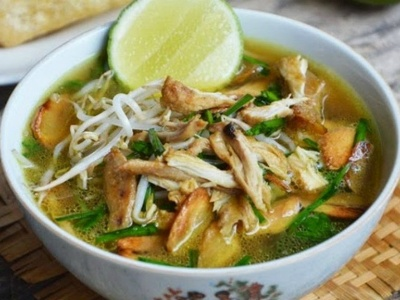soto: (65, 49, 362, 257)
